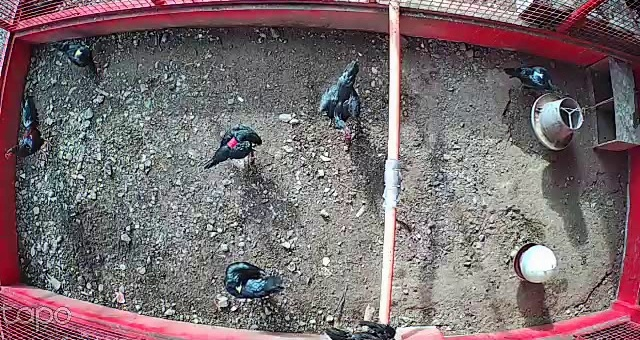Chicken: (315, 57, 369, 151), (201, 122, 264, 170), (222, 259, 287, 301), (501, 58, 565, 97), (55, 43, 100, 78), (326, 320, 403, 340)
Rooster: (5, 92, 51, 164)
Saddle_Color_Red: (226, 137, 239, 148)
Saddle_Color_Yellow: (75, 48, 85, 58)
